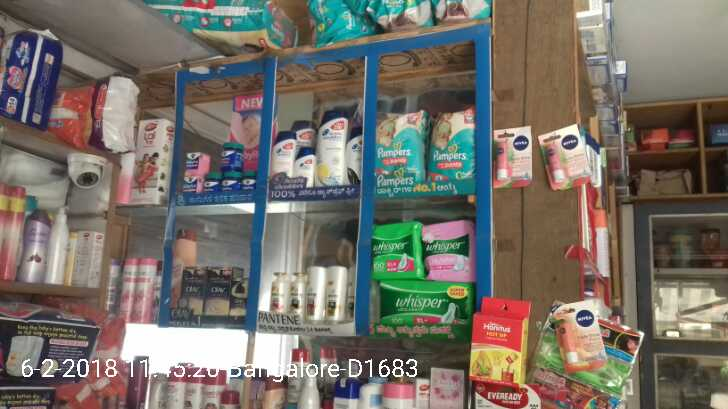beauty: (318, 110, 345, 184), (300, 263, 326, 322), (274, 127, 296, 188), (324, 263, 342, 323), (180, 272, 205, 313), (203, 280, 231, 315), (295, 145, 317, 186)
pharmacy: (371, 277, 474, 333), (368, 109, 427, 180), (426, 104, 477, 181), (360, 219, 424, 279), (419, 217, 473, 284), (219, 140, 242, 167), (178, 151, 204, 174), (178, 170, 199, 195)
